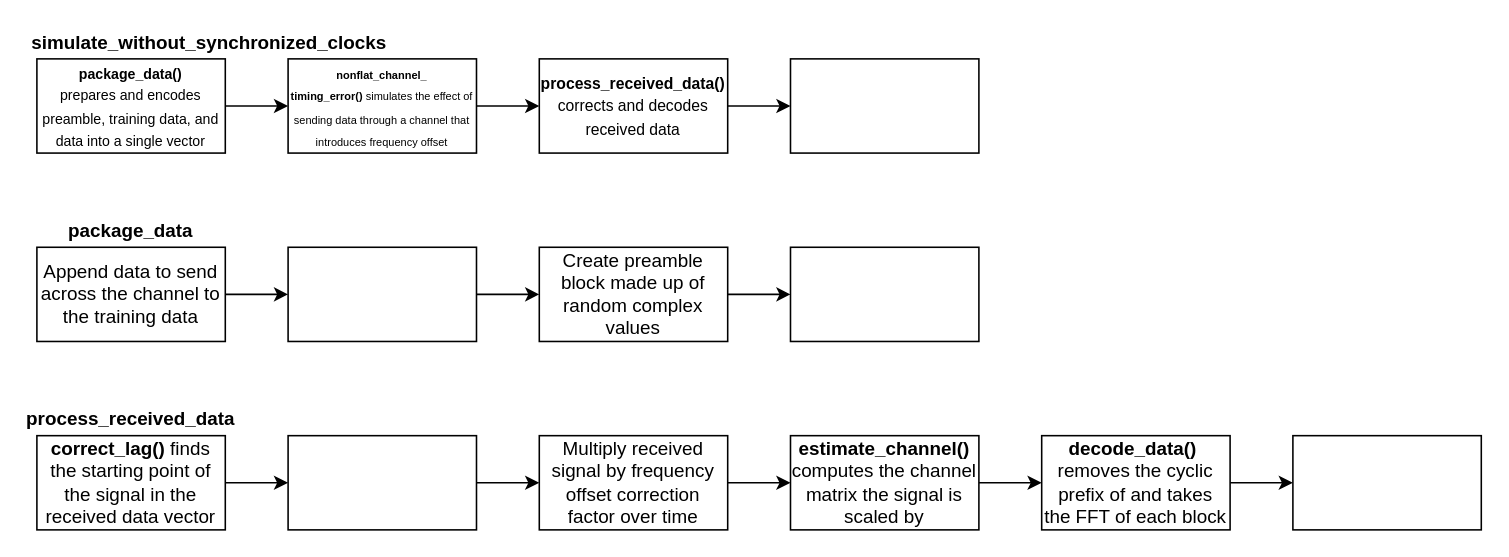
This 1509x557 diagram has some shape labels left out. The shapes that lost their labels are listed below. From the top down, each one's box as (x1, y1, x2, y2) in pixels, then its label:
(789, 57, 979, 153): compute_error() finds overall error rate in simulation
(287, 246, 476, 341): encode_data() takes IFFT and adds cyclic prefix
(789, 246, 979, 341): Add preamble to beginning of data vector, which is now ready to transmit
(287, 434, 476, 530): calculate_frequency _offset() computes f_delta_hat value using training data
(1291, 434, 1481, 530): Divide out channel matrix to yield corrected, decoded received data
